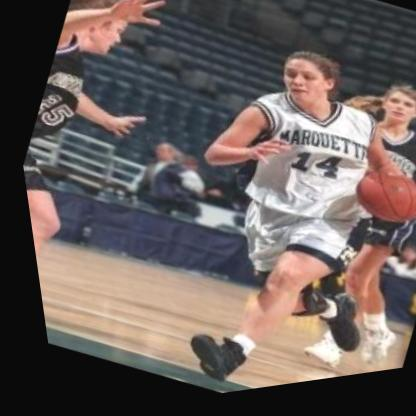basketball: (323, 154, 416, 258)
